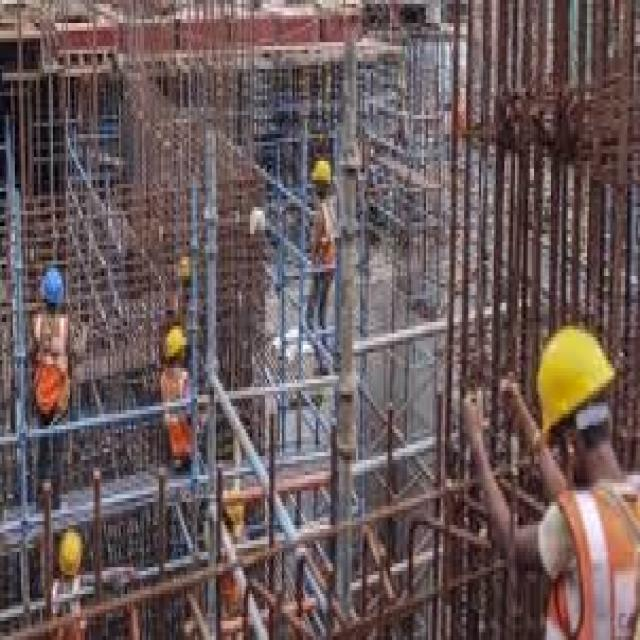Reflective-Jacket: (532, 475, 640, 640), (28, 306, 74, 422), (157, 364, 199, 475), (307, 196, 339, 272)
Safety-Helmet: (522, 310, 630, 456), (55, 521, 89, 583), (159, 318, 191, 368), (36, 260, 68, 310), (307, 150, 339, 196), (172, 249, 197, 291)
